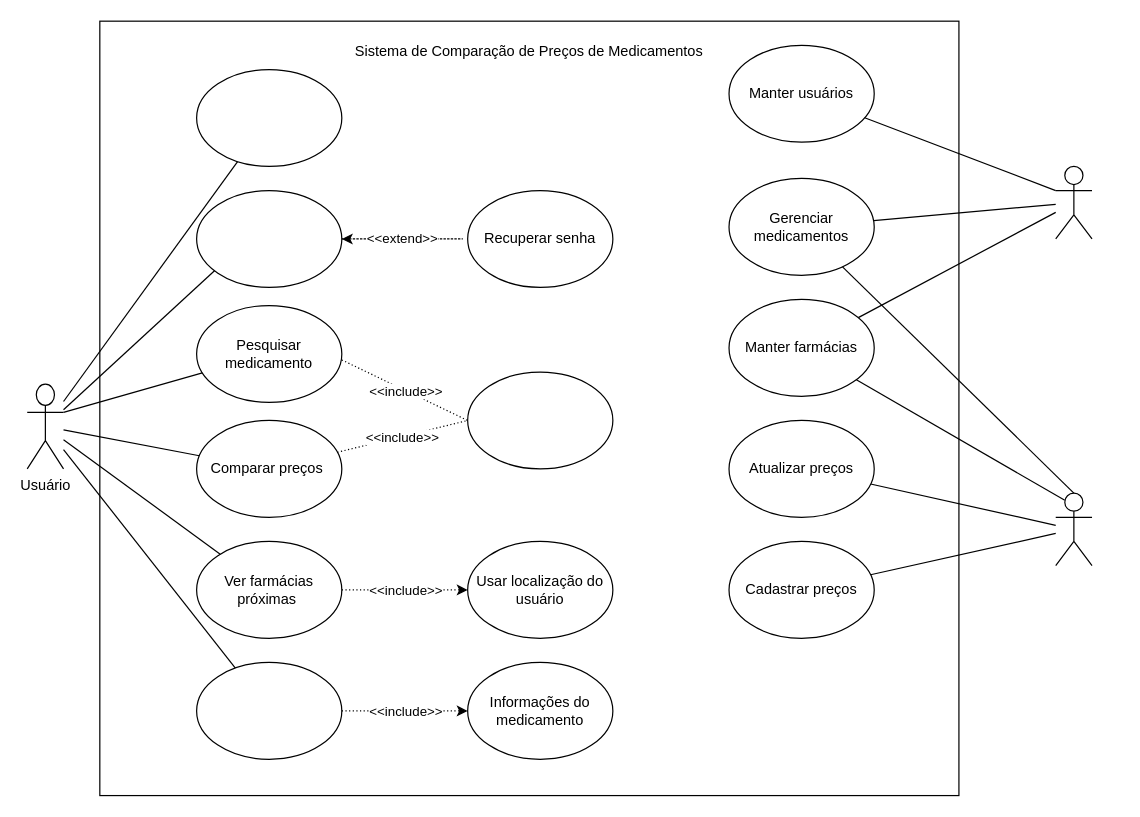
Image size: 1140x817. Some labels were removed from this diagram. The shapes that lost their labels are listed below. From the top down, each one's centre as x and y in pixels, then its label:
At pixel 268 117: "Cadastrar conta".
At pixel 1073 202: "Administrador".
At pixel 268 238: "Fazer login".
At pixel 539 420: "Filtrar resultados".
At pixel 1073 529: "Farmácia".
At pixel 268 710: "Ver detalhes do medicamento".
